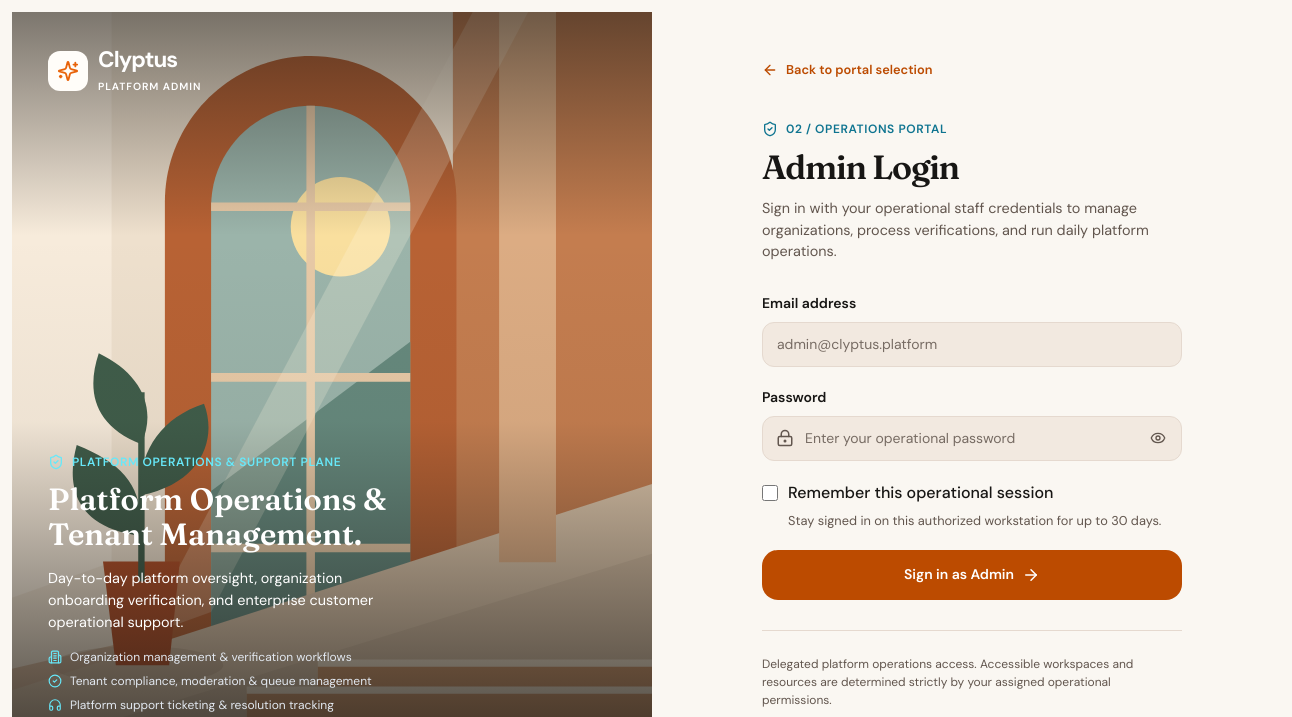
Test: Shared landing and separate login pages › opens the Admin direct URL and submits its role
The width and height of the screenshot is (1292, 717).
Expected: the number of forms is 1, [762,293,1182,600]
Type "person@example.test" into the field labelled "Email address".
click(972, 344); type("person@example.test")  # box [762,322,1182,367]
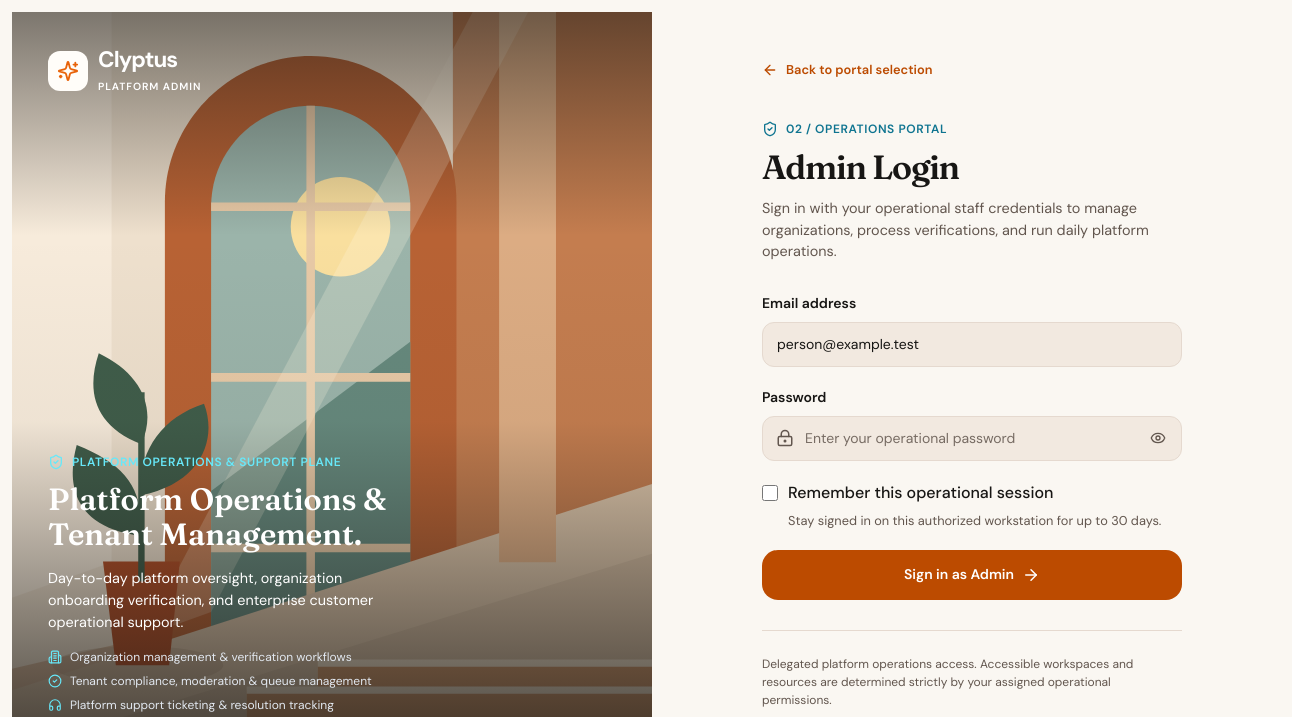
Type "StrongPassword!123" into the password field labelled "Password".
click(972, 438); type("StrongPassword!123")  # box [762,416,1182,461]
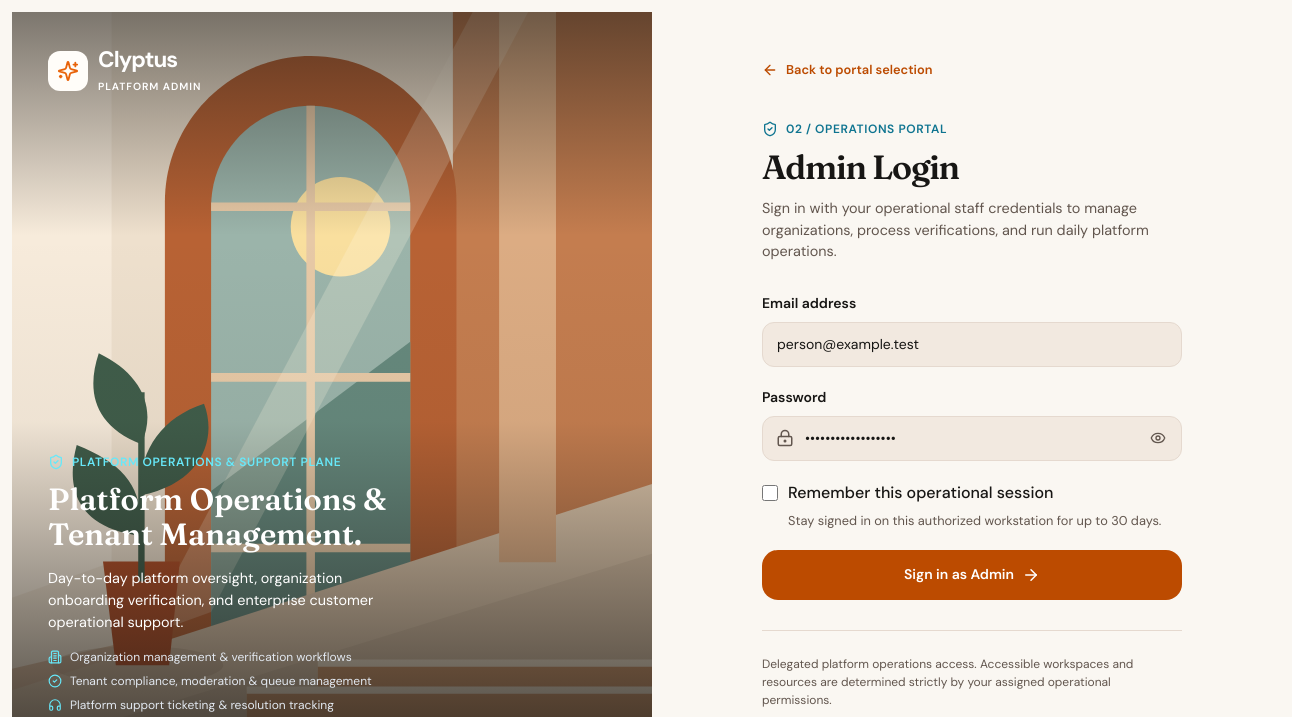
Click the button "Sign in as Admin".
click(972, 575)  # box [762,550,1182,600]
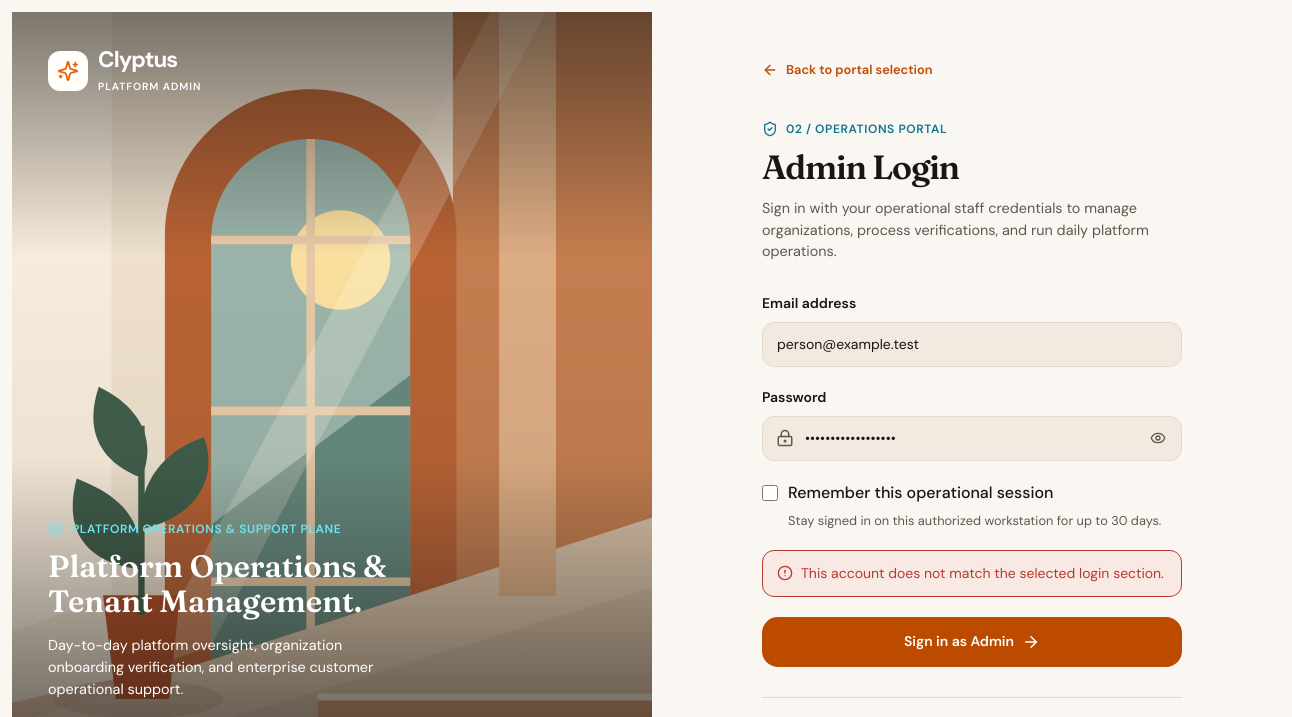
Now the message "This account does not match the selected login section." is shown, box [762,550,1182,597]
Click the link "Back to portal selection".
click(847, 70)  # box [762,60,932,79]
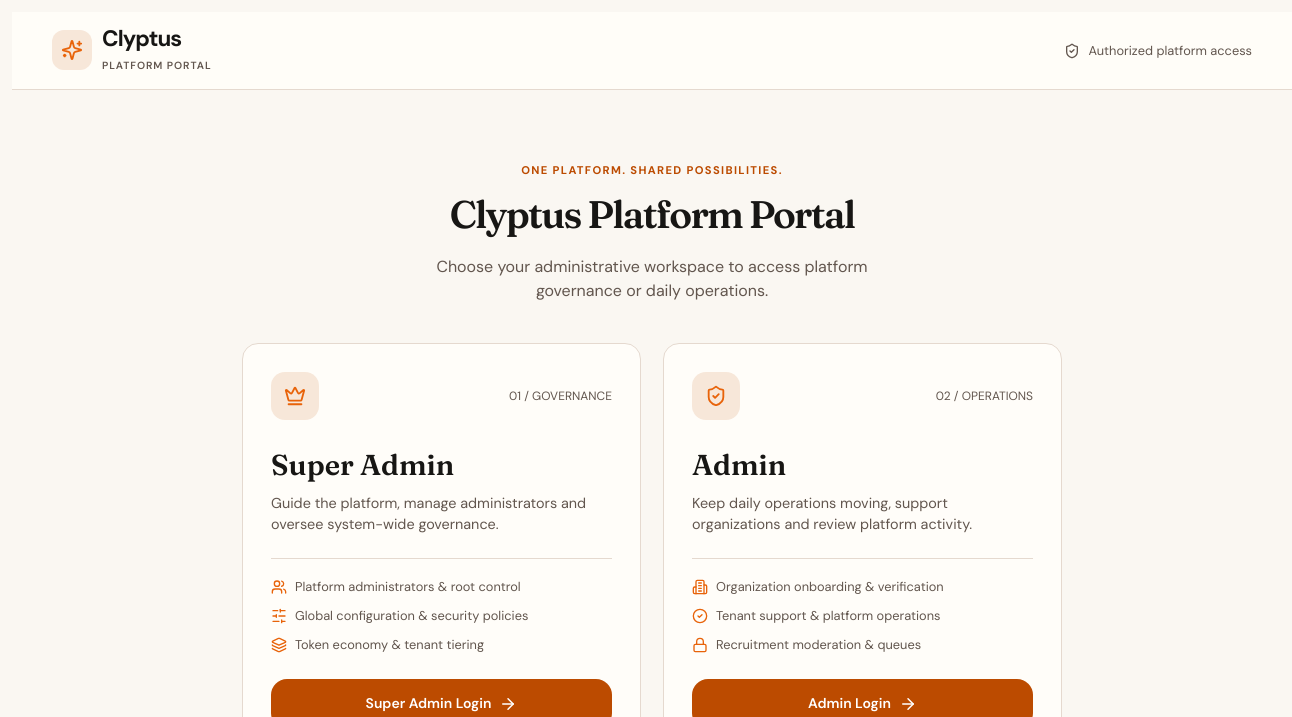
Now the message "This account does not match the selected login section." is gone
